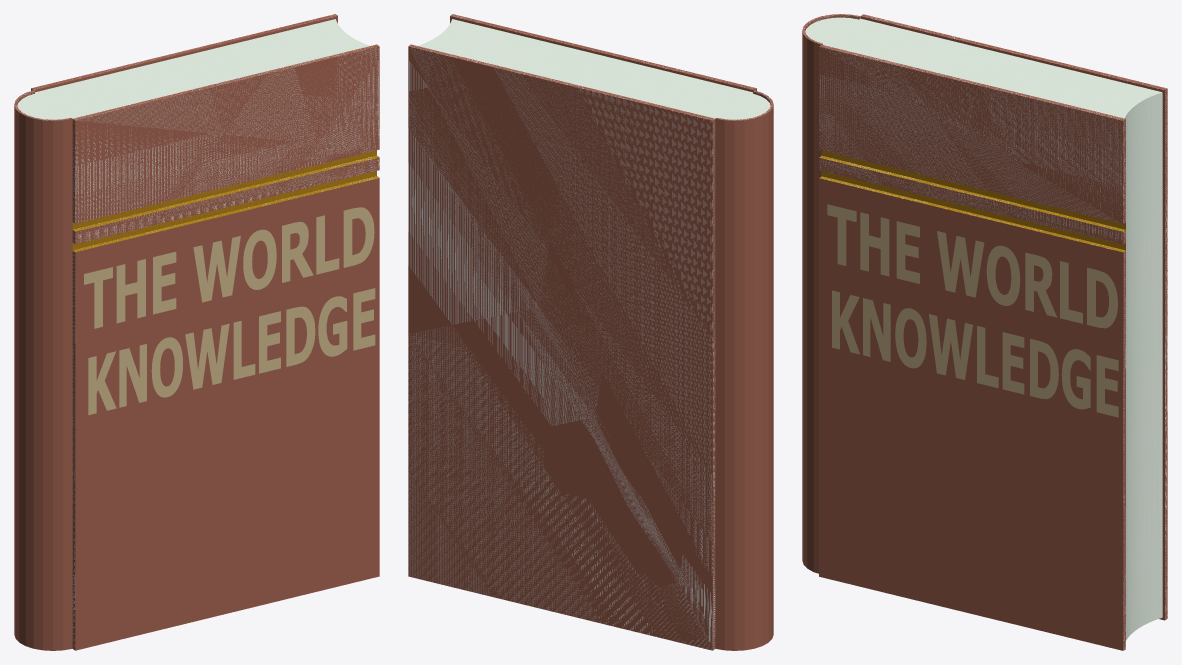
The picture shows the model from 3 angles, left to right: view 1: azimuth 30°, elevation 25°; view 2: azimuth 150°, elevation 25°; view 3: azimuth 330°, elevation 25°; orthographic projection.
Visible parts, largest first — view 1: book; view 2: book; view 3: book.
Boxes of the visible parts, x1,y1,x2,y2 form: book: (14, 14, 379, 650); book: (408, 14, 773, 650); book: (802, 14, 1167, 650).
Bounding box in the file's own units: 36.38 × 54.5 × 8.27.
